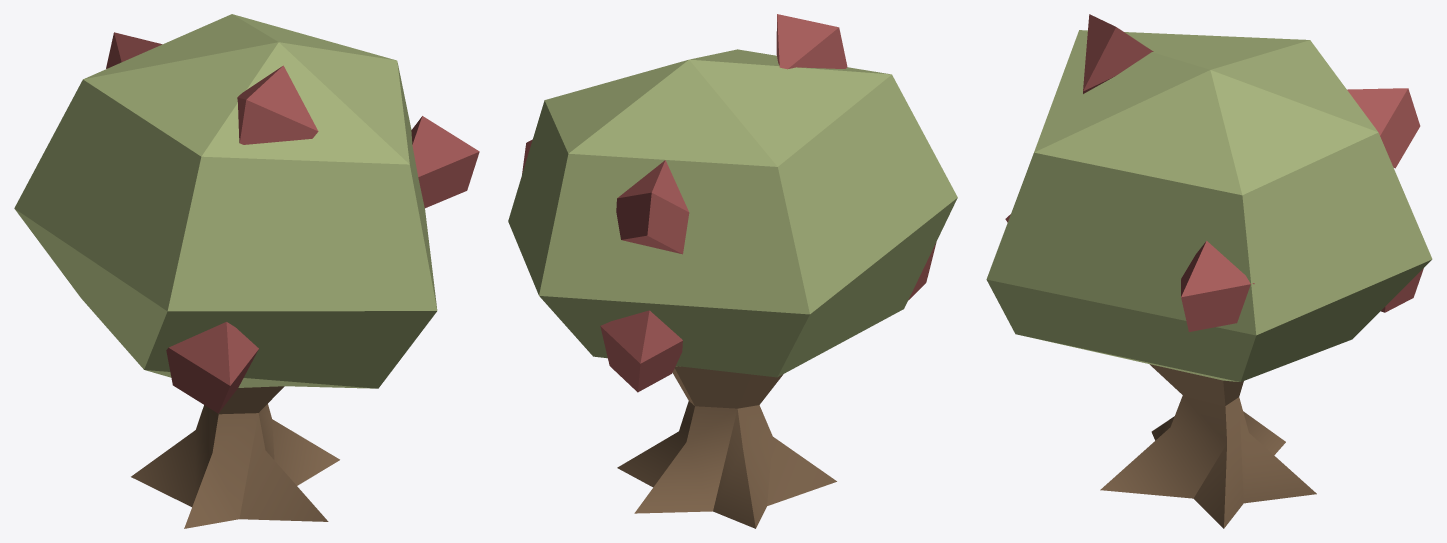
File: berrybush1.fbx
The picture shows the model from 3 angles, left to right: view 1: azimuth 30°, elevation 25°; view 2: azimuth 150°, elevation 25°; view 3: azimuth 270°, elevation 25°; orthographic projection. The views are drawn at different scales.
Visible parts, largest first — view 1: berry_bush1, berries1; view 2: berry_bush1, berries1; view 3: berry_bush1, berries1.
Boxes of the visible parts, box(x1,y1,x2,y2) form: berry_bush1: box(14, 14, 437, 528); berries1: box(106, 32, 479, 413); berry_bush1: box(508, 49, 957, 528); berries1: box(521, 14, 936, 392); berry_bush1: box(986, 30, 1432, 528); berries1: box(1005, 14, 1423, 331).
Bounding box in the file's own units: 5.2 × 6.11 × 5.42.
